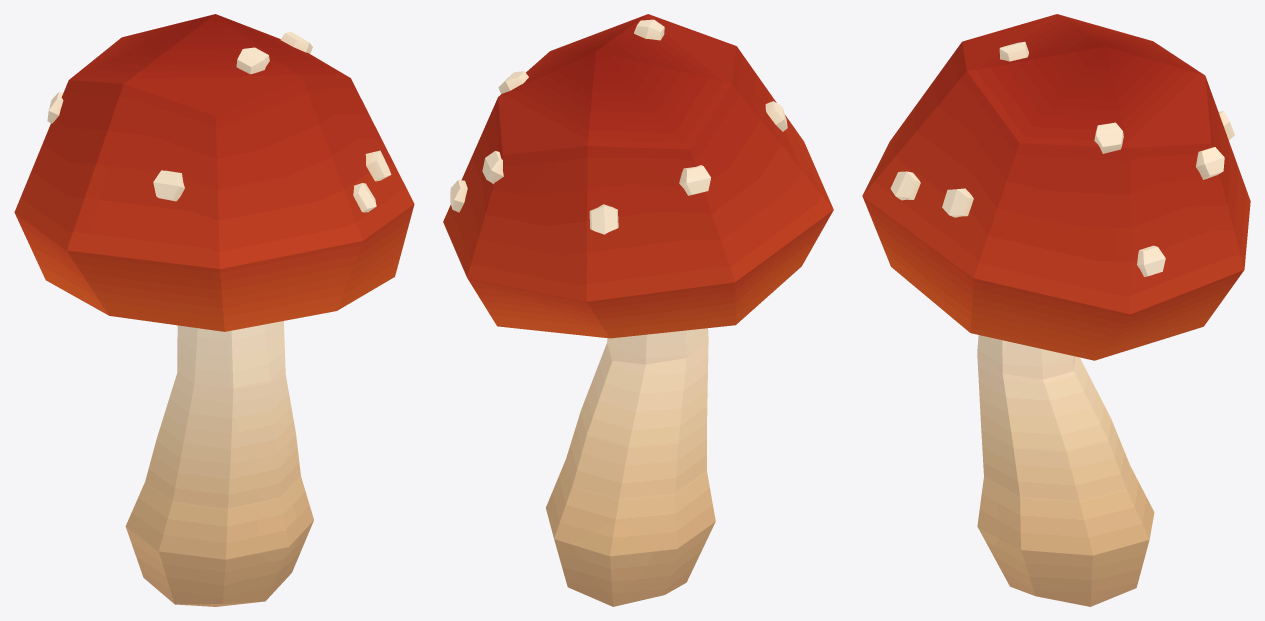
Rendered from Small_Fly agaric.glb.
3 renders of one model, left to right at view 1: azimuth 30°, elevation 25°; view 2: azimuth 150°, elevation 25°; view 3: azimuth 270°, elevation 25°, orthographic. The views are drawn at different scales.
Parts seen in each view (by area): view 1: Fly_Small; view 2: Fly_Small; view 3: Fly_Small.
Part boxes in pixels (bbox=[...]): Fly_Small: bbox=[14, 14, 414, 606]; Fly_Small: bbox=[443, 14, 833, 606]; Fly_Small: bbox=[862, 14, 1250, 606].
Size of the model in its own units: 1.73 by 2.78 by 1.74.
Materials: 1 (1 with a texture image).
